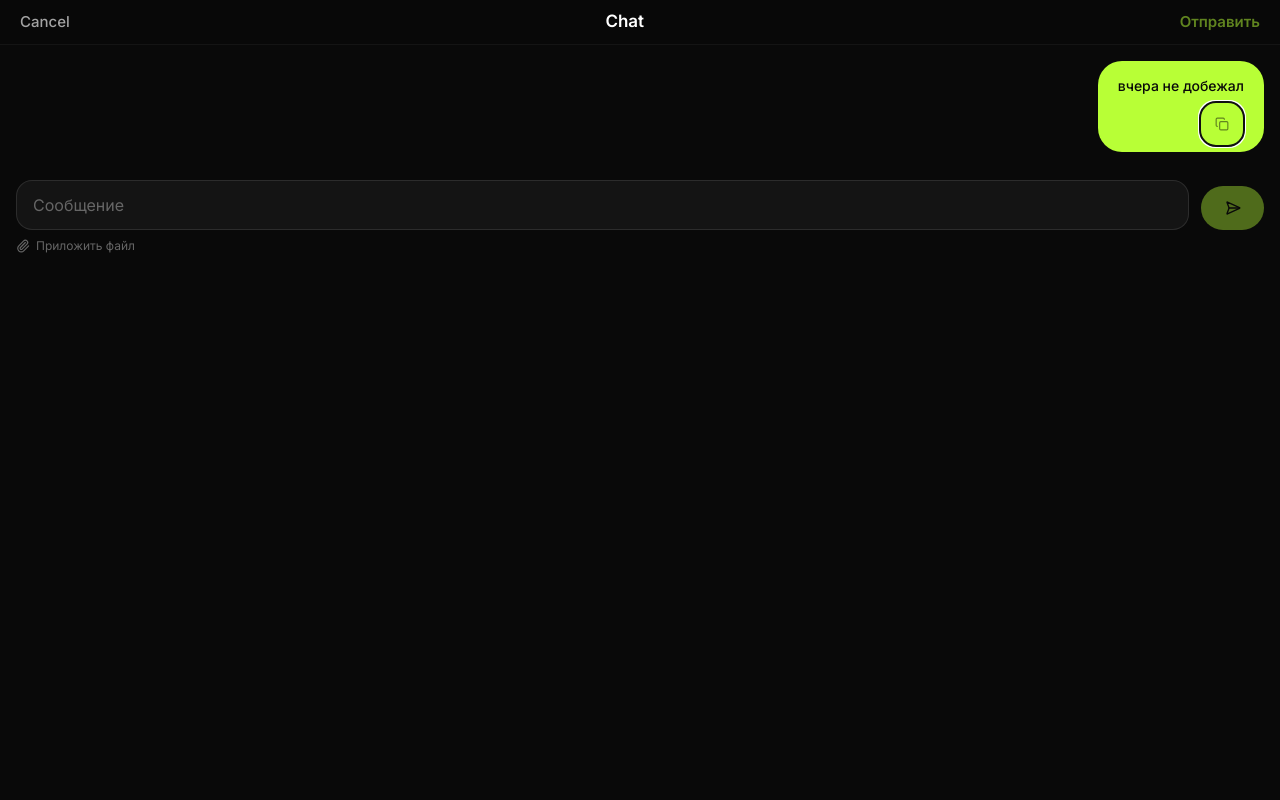
Test: a turn in flight, on both shells › swaps the waiting sign for a caret once the answer starts
The width and height of the screenshot is (1280, 800).
Expected: the text "вчера не добежал" is shown, [1118,77,1244,94]
Type "как я спал?" into the text box labelled "Сообщение" at (602, 205), box [16,180,1189,230]
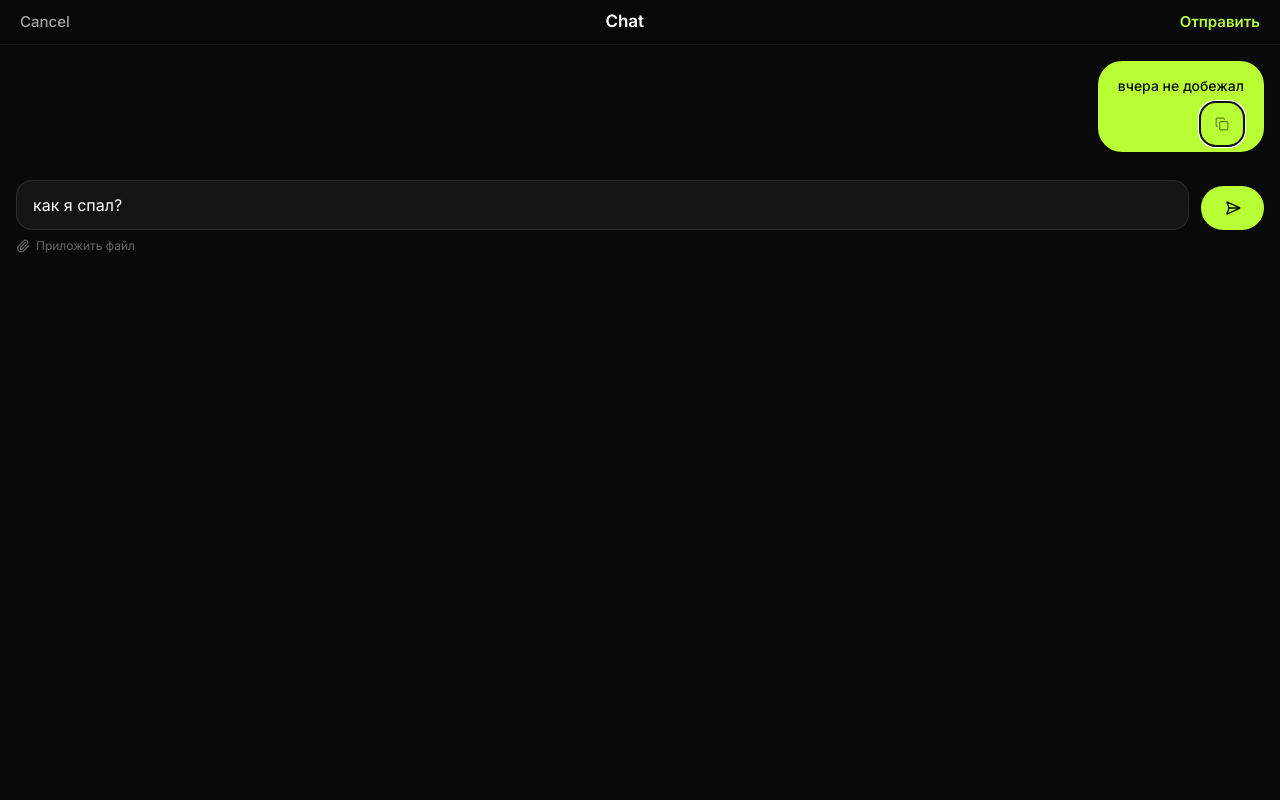
Click the button "Отправить" at (1220, 22), box [1172,0,1268,44]
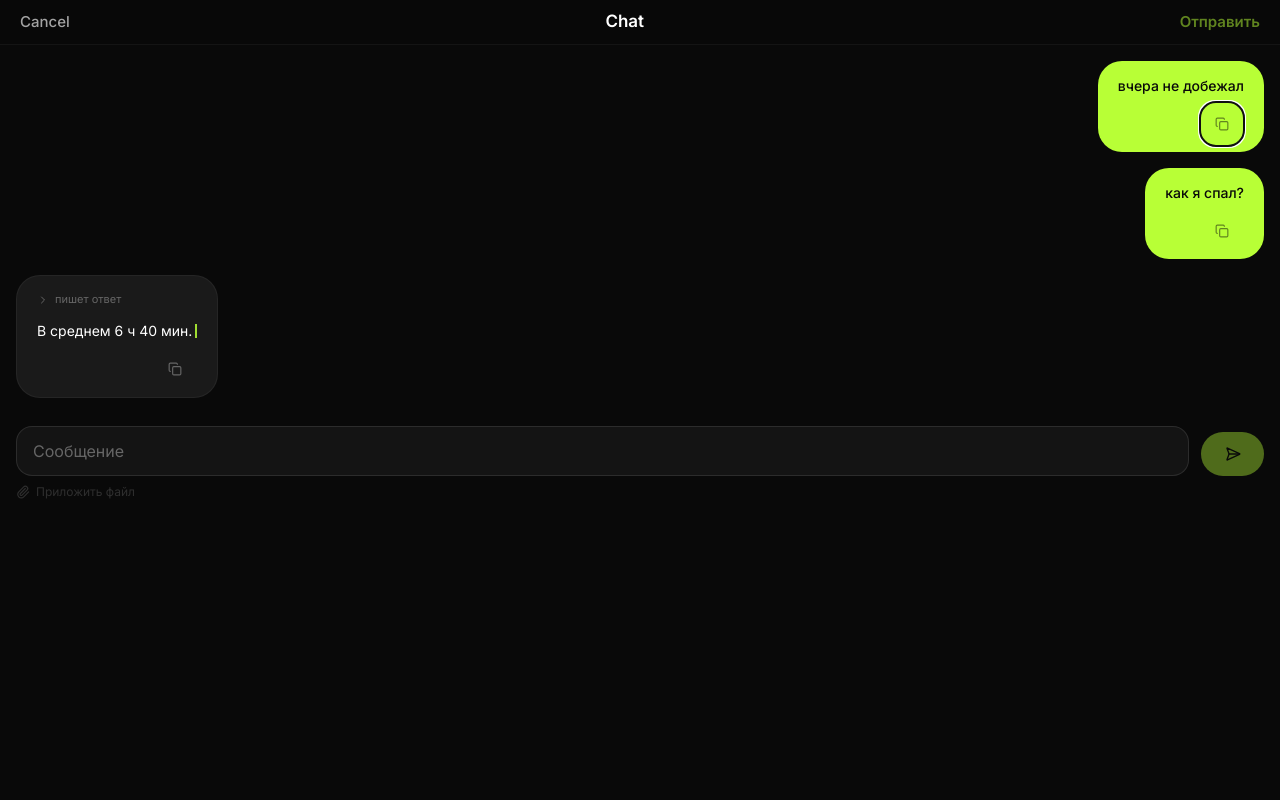
Expected: the element with test id "turn-caret" is shown, [195,324,197,338]
Expected: the button with test id "thinking-toggle" is shown, [37,291,121,308]
